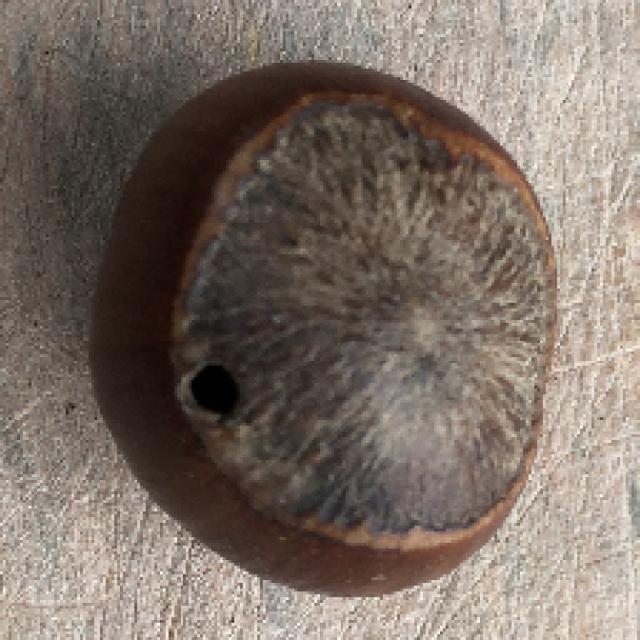damagedHazelnut: (88, 65, 556, 592)
